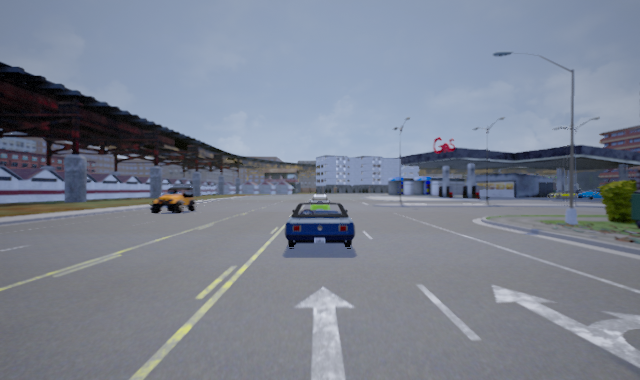vehicle: (283, 199, 354, 250), (149, 186, 199, 214), (308, 194, 331, 216), (546, 189, 578, 200), (576, 188, 605, 200)
